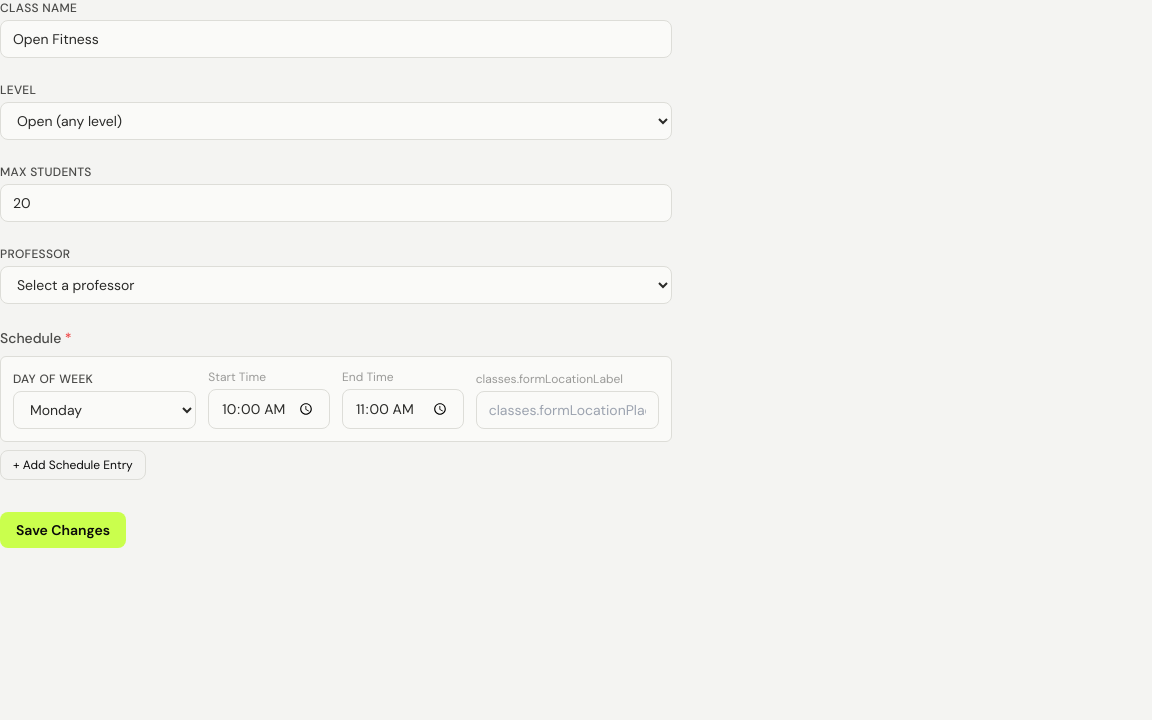
Test: ClassForm (edit mode – OPEN cascade confirmation) › shows confirmation modal when changing OPEN → BEGINNER and clicking Save
// Change level from OPEN to BEGINNER
Select "Beginner" in the dropdown labelled "Level" at (336, 121), box x1=0 y1=102 x2=672 y2=140
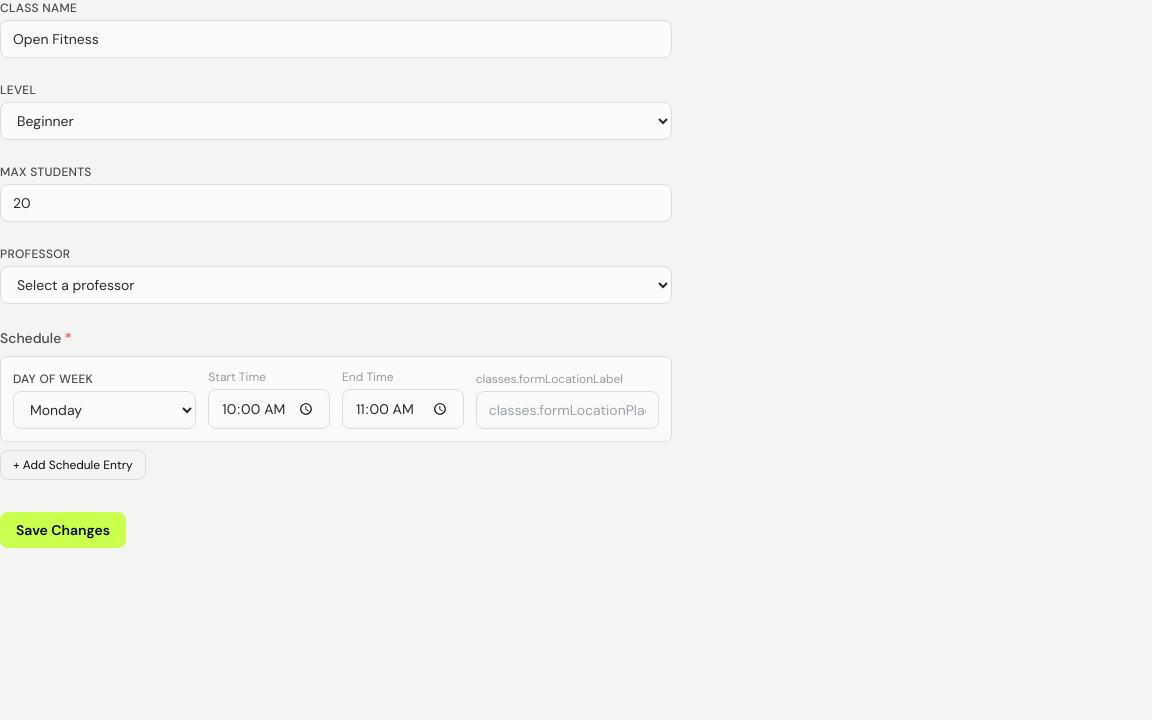
// Click Save
Click the button "Save Changes" at (63, 530), box x1=0 y1=512 x2=126 y2=548
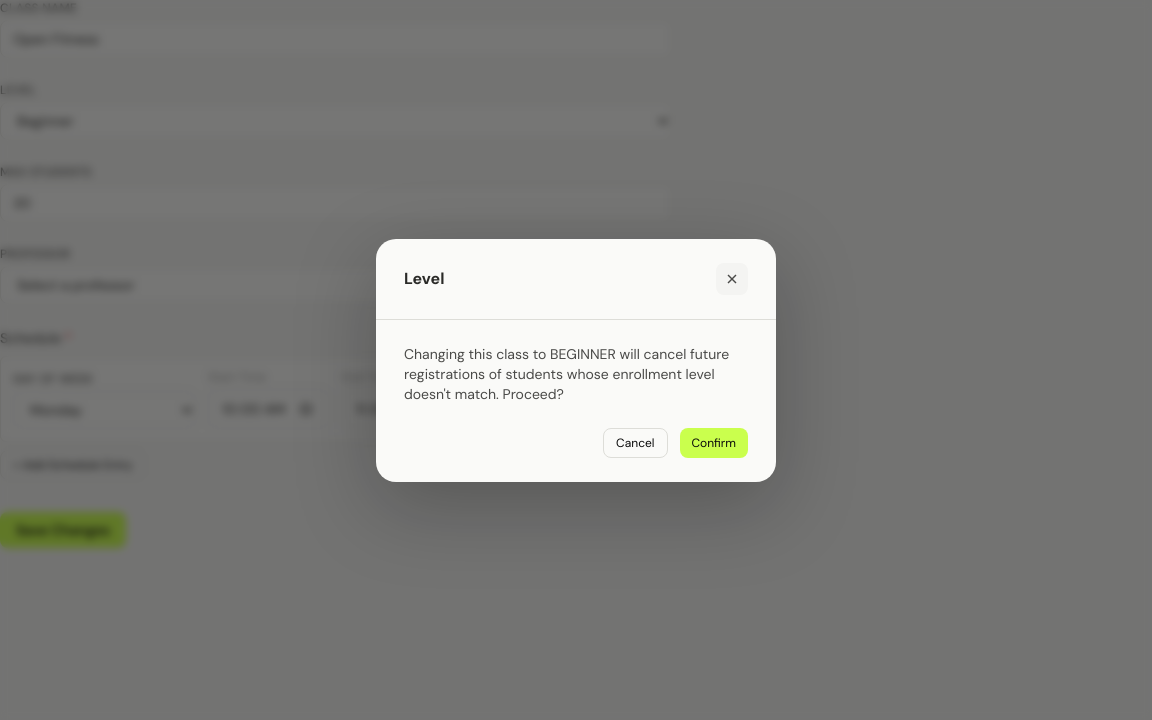
Expected: the dialog is shown, x1=376 y1=238 x2=776 y2=482
